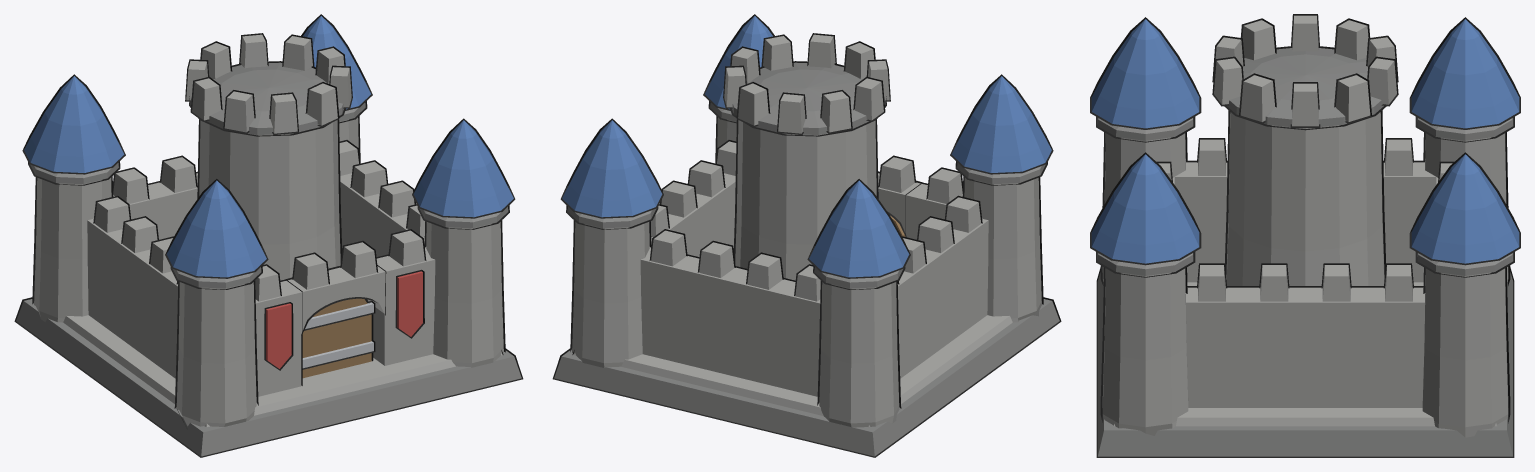
File: td_castle.fbx
3 views of the same model, side by side, from view 1: azimuth 30°, elevation 25°; view 2: azimuth 150°, elevation 25°; view 3: azimuth 270°, elevation 25° (orthographic). The views are drawn at different scales.
Visible parts, largest first — view 1: Prop_Castle; view 2: Prop_Castle; view 3: Prop_Castle.
Part boxes in pixels (x1,y1,x2,y2): Prop_Castle: [14, 14, 523, 457]; Prop_Castle: [552, 14, 1061, 457]; Prop_Castle: [1090, 14, 1520, 457].
Size of the model in its own units: 421 by 342 by 415.
